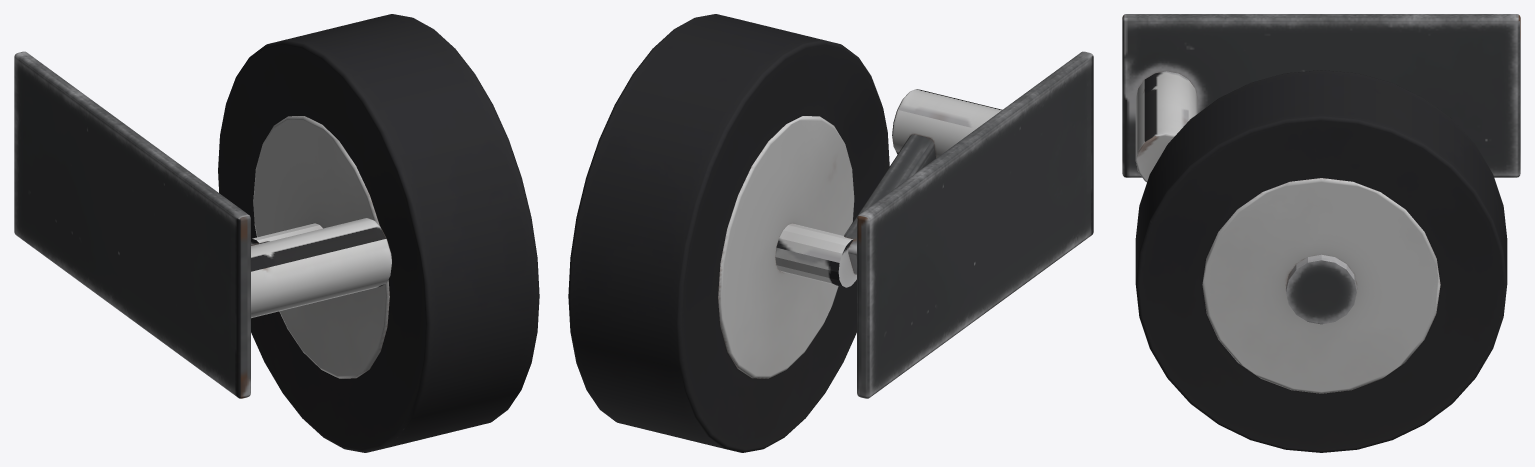
The model's file is SM_PartWheelSmall.glb.
The picture shows the model from 3 angles, left to right: view 1: azimuth 30°, elevation 25°; view 2: azimuth 150°, elevation 25°; view 3: azimuth 270°, elevation 25°; orthographic projection. The views are drawn at different scales.
Parts seen in each view (by area): view 1: SM_PartWheelSmall_Wheel, SM_PartWheelSmall, SM_PartWheelSmall_Arm; view 2: SM_PartWheelSmall_Wheel, SM_PartWheelSmall, SM_PartWheelSmall_Arm; view 3: SM_PartWheelSmall_Wheel, SM_PartWheelSmall.
Part boxes in pixels (x1,y1,x2,y2): SM_PartWheelSmall_Wheel: (218, 14, 539, 452); SM_PartWheelSmall: (14, 51, 391, 398); SM_PartWheelSmall_Arm: (251, 223, 322, 245); SM_PartWheelSmall_Wheel: (568, 14, 889, 452); SM_PartWheelSmall: (857, 51, 1093, 398); SM_PartWheelSmall_Arm: (775, 134, 935, 287); SM_PartWheelSmall_Wheel: (1135, 70, 1507, 452); SM_PartWheelSmall: (1122, 14, 1520, 182).
Size of the model in its own units: 0.745 by 0.84 by 0.9.
Materials: 3 (3 with a texture image).
